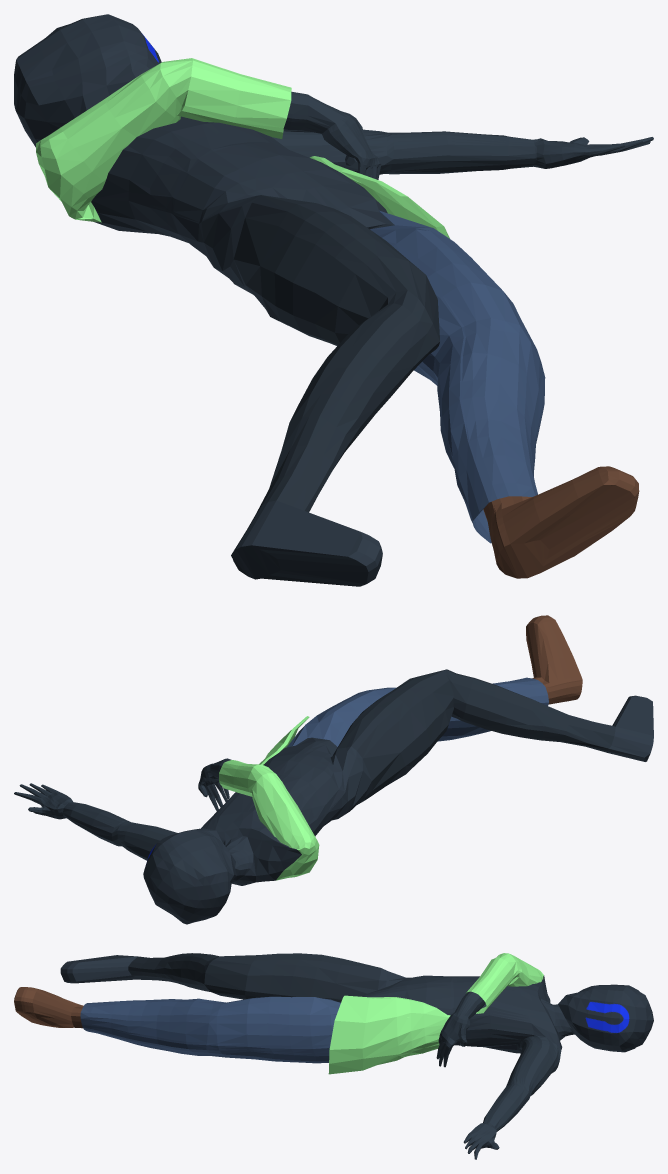
The model's file is Mar_Die_000018.obj.
The picture shows the model from 3 angles, top to bottom: view 1: azimuth 30°, elevation 25°; view 2: azimuth 150°, elevation 25°; view 3: azimuth 270°, elevation 25°; orthographic projection. The views are drawn at different scales.
Visible parts, largest first — view 1: Cube.000_Cube.001; view 2: Cube.000_Cube.001; view 3: Cube.000_Cube.001.
Part boxes in pixels (x1=…): Cube.000_Cube.001: x1=14, y1=14, x2=653, y2=586; Cube.000_Cube.001: x1=14, y1=615, x2=653, y2=924; Cube.000_Cube.001: x1=14, y1=953, x2=653, y2=1159.
Size of the model in its own units: 2.82 by 0.663 by 3.97.
